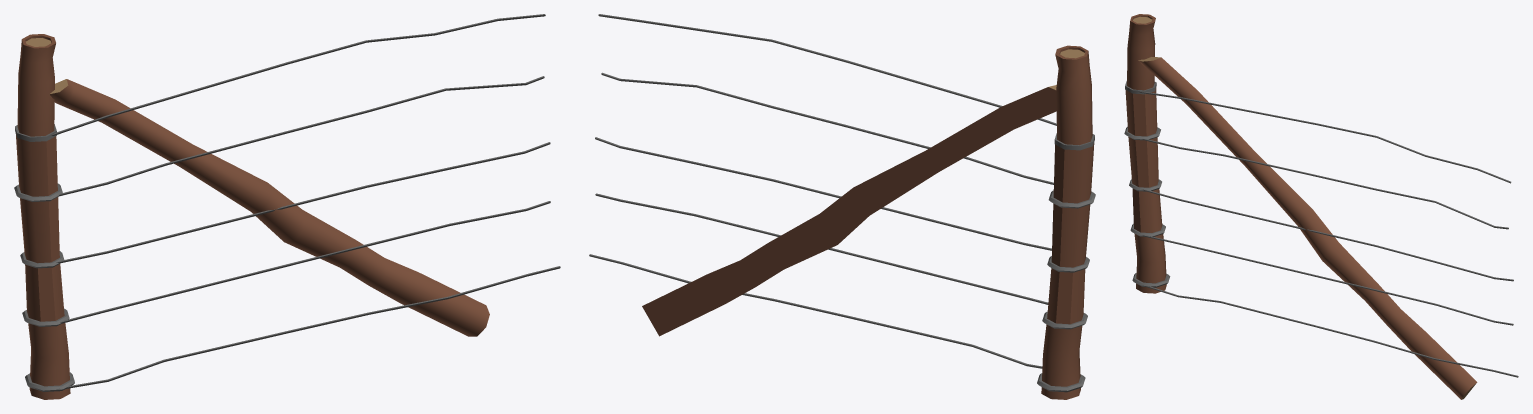
Rendered from fence.fbx.
The picture shows the model from 3 angles, left to right: view 1: azimuth 30°, elevation 25°; view 2: azimuth 150°, elevation 25°; view 3: azimuth 330°, elevation 25°; orthographic projection. The views are drawn at different scales.
Visible parts, largest first — view 1: Cylinder001; view 2: Cylinder001; view 3: Cylinder001.
Part boxes in pixels (<box>): Cylinder001: <box>14,14,560,399</box>; Cylinder001: <box>589,14,1095,399</box>; Cylinder001: <box>1124,14,1518,399</box>.
Size of the model in its own units: 116 by 83.02 by 9.84.
